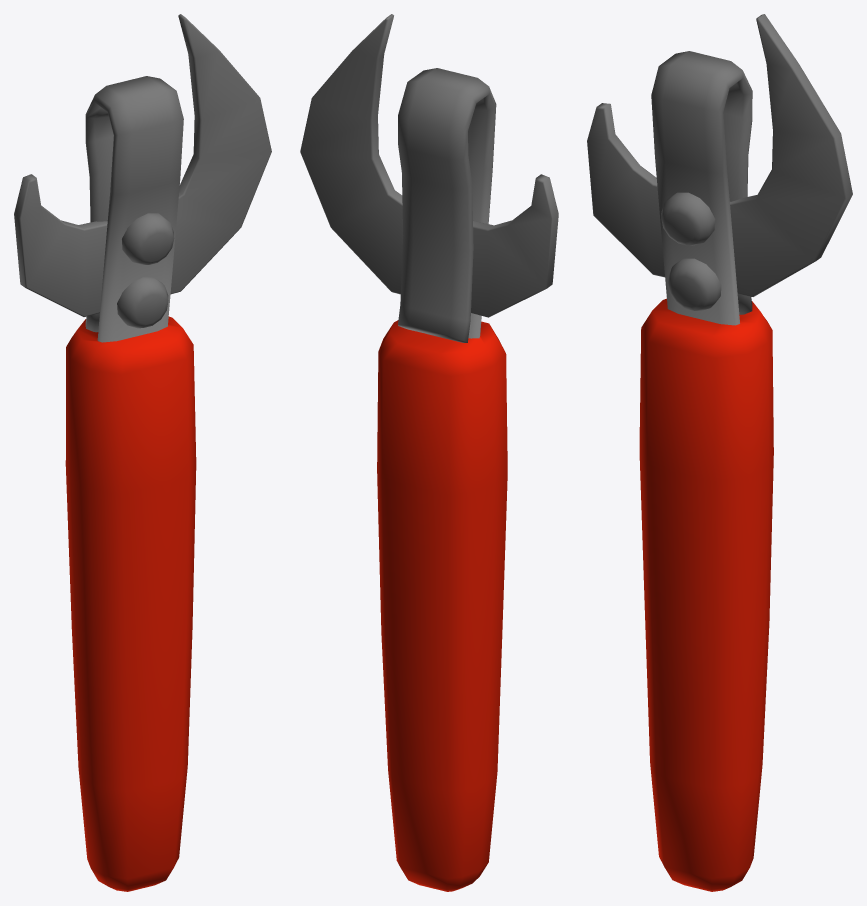
Rendered from CanOpener.fbx.
The picture shows the model from 3 angles, left to right: view 1: azimuth 30°, elevation 25°; view 2: azimuth 150°, elevation 25°; view 3: azimuth 330°, elevation 25°; orthographic projection. The views are drawn at different scales.
Visible parts, largest first — view 1: Cylinder.001; view 2: Cylinder.001; view 3: Cylinder.001.
Boxes of the visible parts, x1=… form: Cylinder.001: x1=14, y1=14, x2=271, y2=891; Cylinder.001: x1=300, y1=14, x2=558, y2=891; Cylinder.001: x1=587, y1=14, x2=852, y2=891.
Bounding box in the file's own units: 2.57 × 8.27 × 0.9433.
